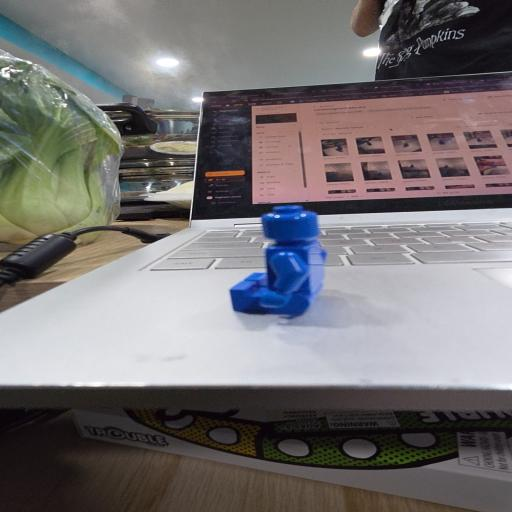Blue: (230, 206, 327, 315)
